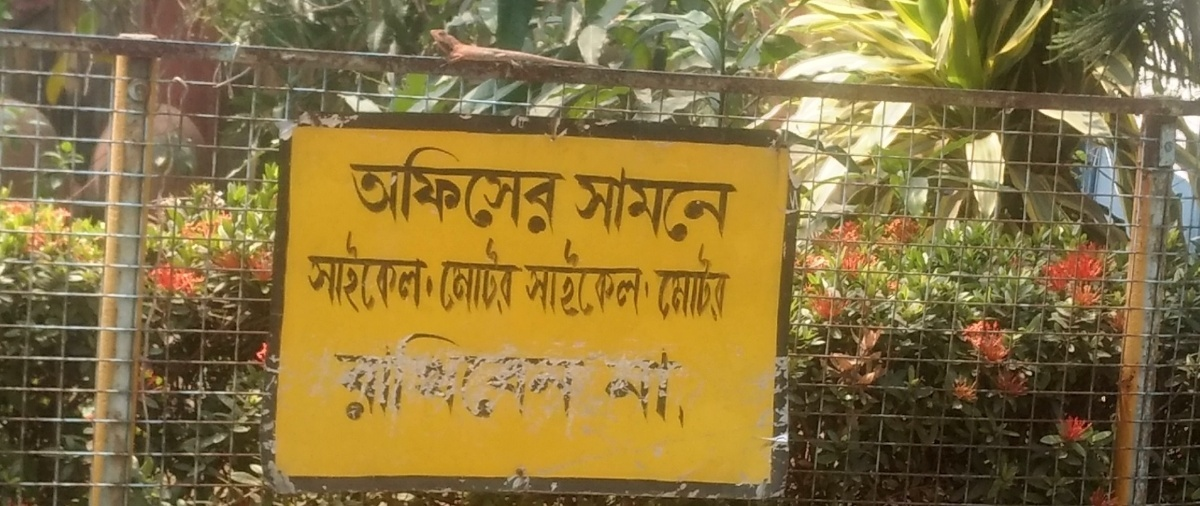text: (337, 326, 352, 430), (353, 326, 368, 430), (369, 326, 384, 430), (385, 326, 400, 430), (401, 326, 416, 430), (417, 326, 432, 430), (433, 326, 448, 430), (449, 326, 464, 430), (465, 326, 480, 430), (481, 326, 496, 430), (497, 326, 512, 430), (513, 326, 528, 430), (529, 326, 544, 430), (545, 326, 560, 430), (561, 326, 576, 430), (577, 326, 592, 430), (609, 340, 624, 439), (625, 340, 640, 439), (641, 340, 656, 439), (657, 340, 672, 439), (353, 141, 368, 239), (369, 141, 384, 239), (385, 141, 400, 239), (401, 141, 416, 239), (417, 141, 432, 239), (433, 141, 448, 239), (449, 141, 464, 239), (465, 141, 480, 239), (481, 141, 496, 239), (497, 141, 512, 239), (513, 141, 528, 239), (529, 141, 544, 239), (545, 141, 560, 239), (305, 224, 320, 318), (321, 224, 336, 318), (337, 224, 352, 318), (353, 224, 368, 318), (369, 224, 384, 318), (385, 224, 400, 318), (401, 224, 416, 318), (417, 224, 432, 318), (673, 240, 688, 334), (689, 240, 704, 334), (705, 240, 720, 334), (721, 240, 736, 334), (529, 232, 544, 324), (545, 232, 560, 324), (561, 232, 576, 324), (577, 232, 592, 324), (593, 232, 608, 324), (609, 232, 624, 324), (625, 232, 640, 324), (577, 161, 592, 248), (593, 161, 608, 248), (609, 161, 624, 248), (625, 161, 640, 248), (641, 161, 656, 248), (657, 161, 672, 248), (673, 161, 688, 248), (689, 161, 704, 248), (705, 161, 720, 248), (721, 161, 736, 248), (449, 232, 464, 315), (465, 232, 480, 315), (481, 232, 496, 315), (497, 232, 512, 315), (659, 240, 672, 334), (641, 232, 653, 324), (513, 232, 523, 315), (737, 161, 745, 248), (673, 340, 680, 439), (440, 232, 448, 315), (346, 141, 352, 239), (561, 141, 567, 239), (603, 340, 608, 439), (593, 326, 596, 430), (334, 326, 336, 430), (737, 240, 739, 334), (433, 224, 434, 318), (575, 161, 576, 248)
